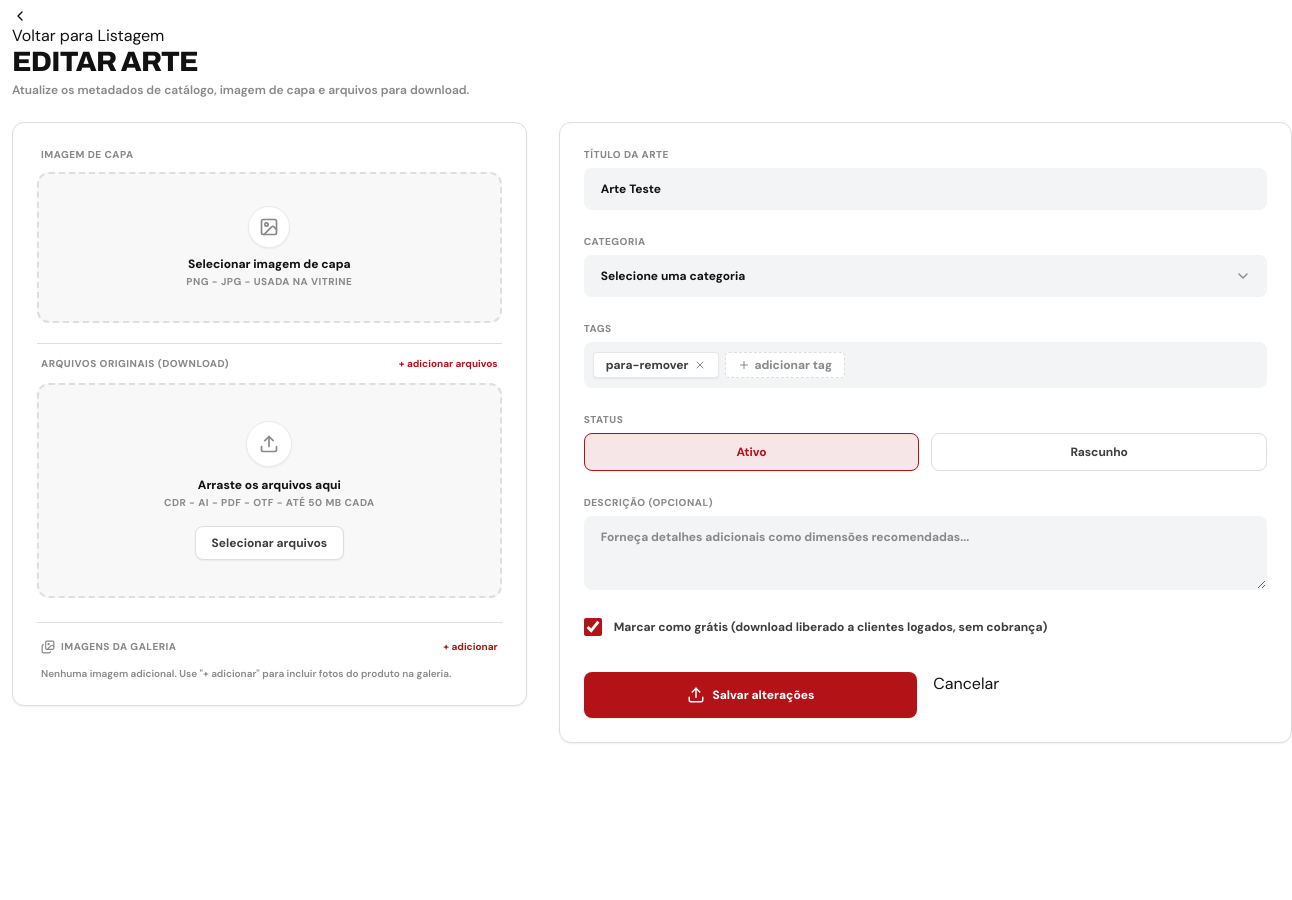
Test: ArtworkFormNks - Gerenciamento de Tags › permite remover uma tag selecionada
Expected: the text "para-remover" is shown, [593,352,720,378]
Click the 3rd button at {"x": 700, "y": 365}, box [694,359,706,371]
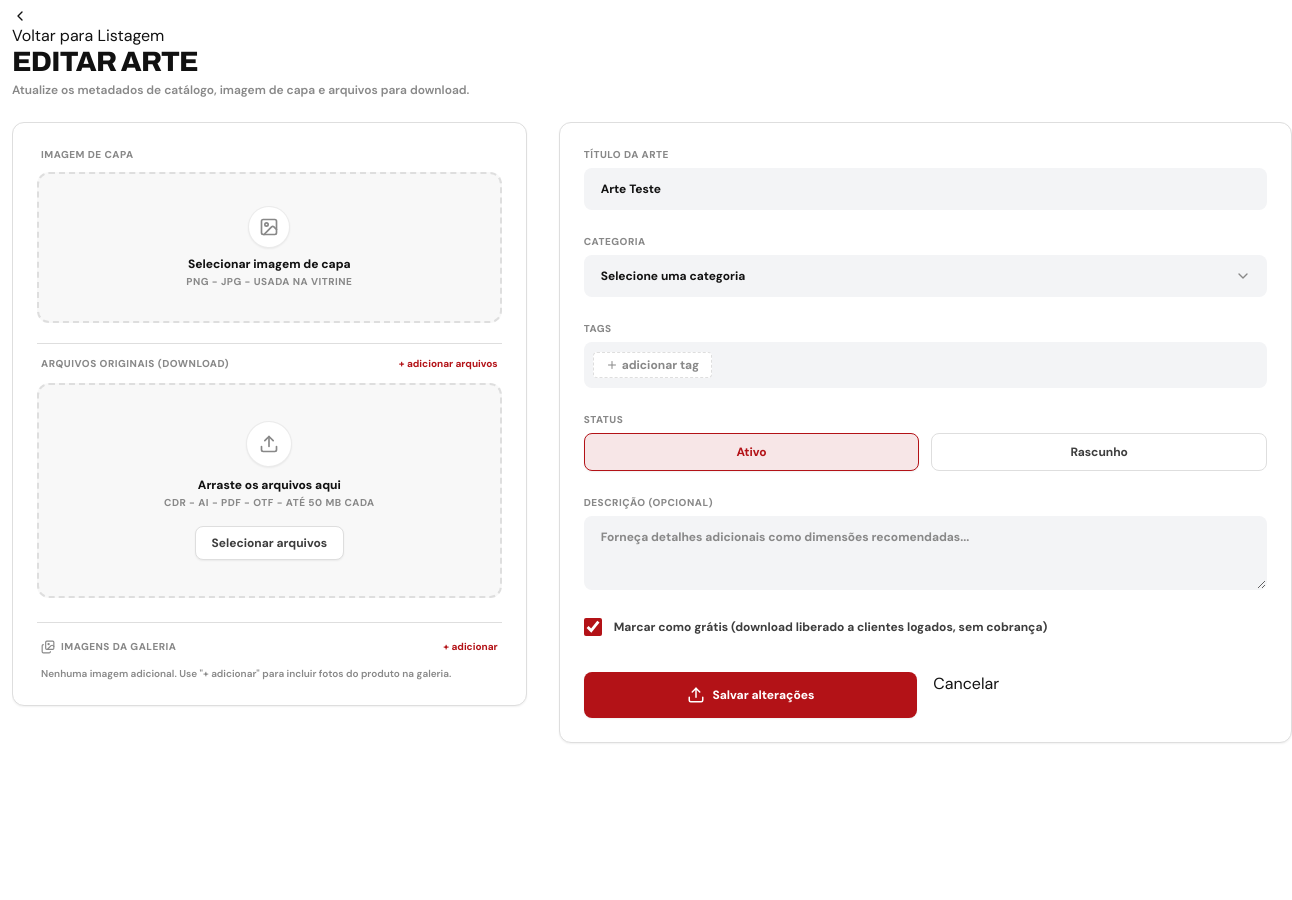
Result: the text "para-remover" is gone
